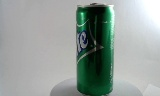sprite: (69, 2, 108, 94)
